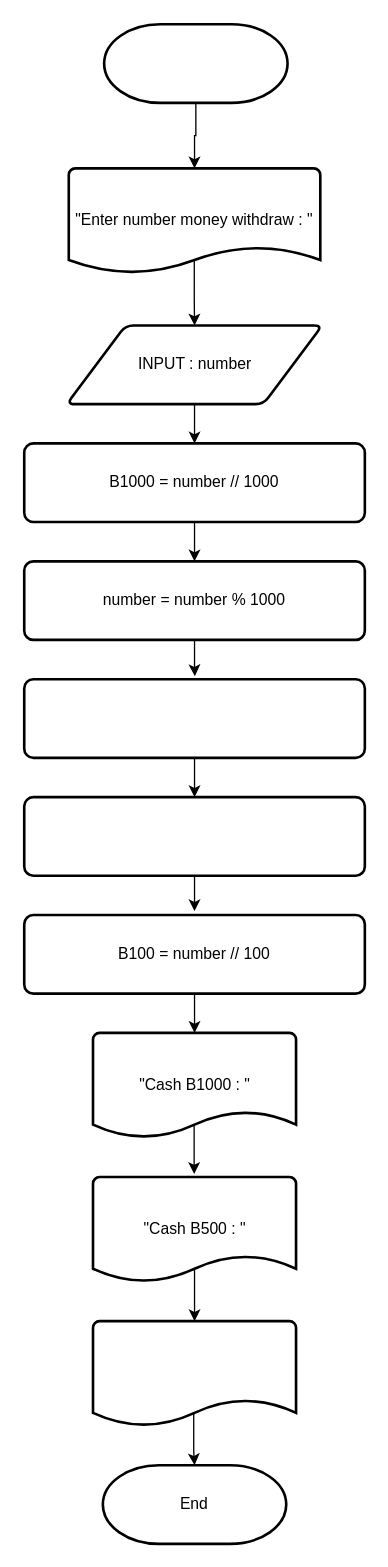
The diagram is 388 pixels wide and 1567 high, and some of its shapes have lost their labels. The centre of each missing label's shape, as x and y in pixels:
"Cash B100 : ": the point at 194,1373
B500 = number // 500: the point at 193,717
number = number % 500: the point at 193,835
Start: the point at 195,62
